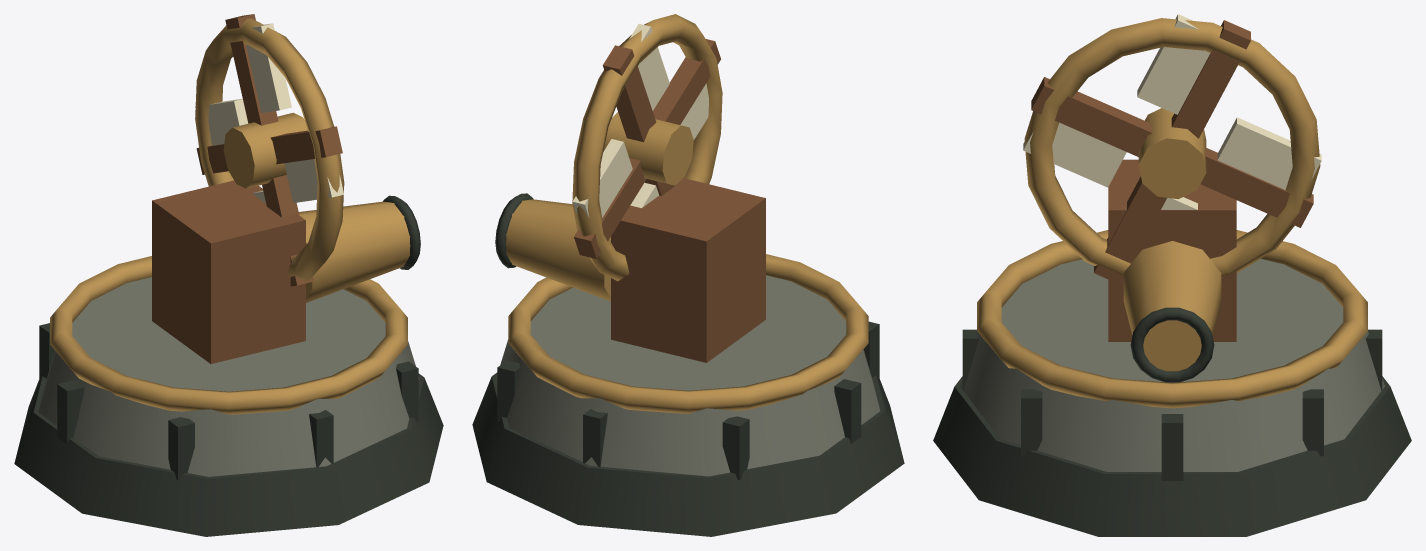
Rendered from tower_wind_windGuide.glb.
3 views of the same model, side by side, from view 1: azimuth 30°, elevation 25°; view 2: azimuth 150°, elevation 25°; view 3: azimuth 270°, elevation 25° (orthographic). The views are drawn at different scales.
Visible parts, largest first — view 1: stone_1, foot_0, mill_11, rim_2, guide_ring_12, air_nozzle_22, hub_13, sail_17, spar_18, spar_16, mortar_6, sail_19 (+8 smaller); view 2: stone_1, foot_0, mill_11, rim_2, guide_ring_12, air_nozzle_22, hub_13, spar_16, spar_18, spar_14, sail_15, mortar_8 (+7 smaller); view 3: stone_1, foot_0, guide_ring_12, rim_2, air_nozzle_22, mill_11, hub_13, spar_18, sail_15, sail_17, spar_16, spar_14 (+8 smaller).
Part boxes in pixels (box(x1,y1,x2,y2)): stone_1: box(38, 277, 419, 476); foot_0: box(14, 373, 443, 536); mill_11: box(152, 180, 305, 363); rim_2: box(50, 256, 407, 414); guide_ring_12: box(195, 18, 344, 280); air_nozzle_22: box(298, 201, 410, 302); hub_13: box(223, 112, 307, 188); sail_17: box(246, 23, 291, 112); spar_18: box(270, 126, 342, 164); spar_16: box(225, 14, 278, 125); mortar_6: box(168, 417, 194, 480); sail_19: box(284, 159, 343, 202); stone_1: box(496, 275, 880, 476); foot_0: box(472, 372, 904, 536); mill_11: box(611, 178, 765, 362); rim_2: box(508, 254, 868, 413); guide_ring_12: box(572, 14, 722, 281); air_nozzle_22: box(506, 199, 610, 301); hub_13: box(603, 112, 693, 185); spar_16: box(602, 45, 656, 142); spar_18: box(653, 39, 720, 124); spar_14: box(574, 158, 646, 258); sail_15: box(572, 139, 632, 218); mortar_8: box(722, 416, 749, 479); stone_1: box(960, 259, 1384, 471); foot_0: box(933, 376, 1411, 536); guide_ring_12: box(1024, 18, 1320, 275); rim_2: box(977, 230, 1367, 408); air_nozzle_22: box(1123, 241, 1221, 371); mill_11: box(1108, 159, 1236, 341); hub_13: box(1138, 108, 1206, 199); spar_18: box(1031, 77, 1152, 156); sail_15: box(1217, 117, 1321, 189); sail_17: box(1137, 14, 1210, 114); spar_16: box(1171, 20, 1250, 138); spar_14: box(1200, 147, 1313, 227).
Bounding box in the file's own units: 0.5326 × 0.5745 × 0.56.
